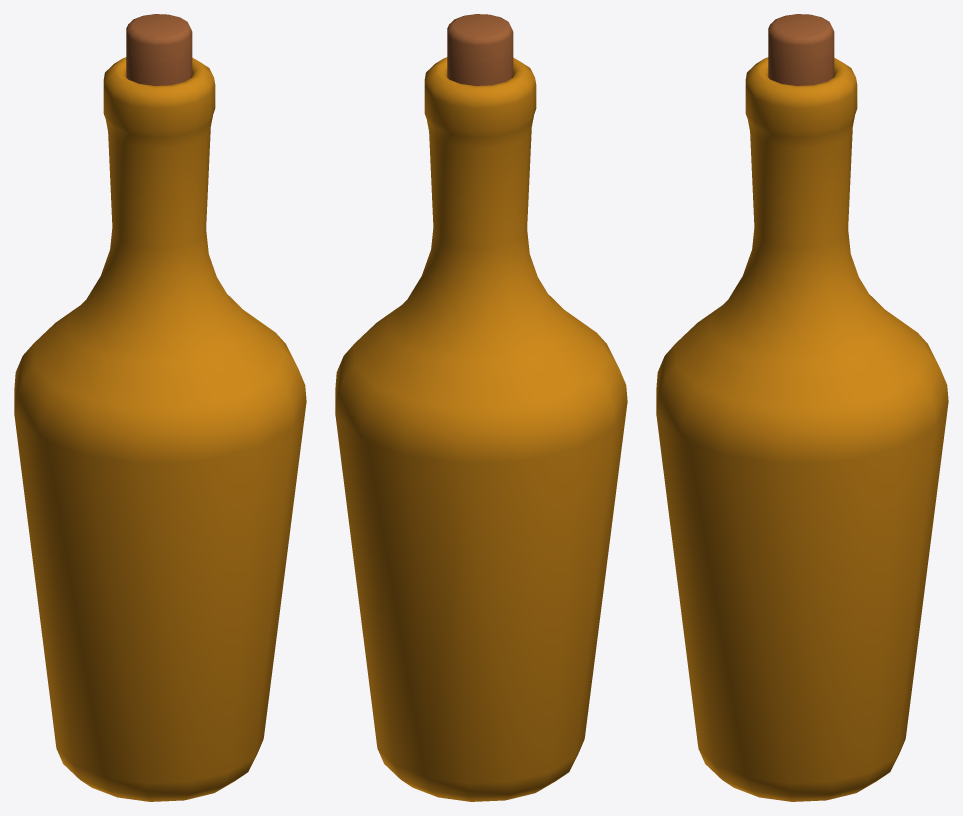
File: YellowBottle.glb
The picture shows the model from 3 angles, left to right: view 1: azimuth 30°, elevation 25°; view 2: azimuth 150°, elevation 25°; view 3: azimuth 270°, elevation 25°; orthographic projection.
Parts seen in each view (by area): view 1: YellowBottle; view 2: YellowBottle; view 3: YellowBottle.
Part boxes in pixels (<box>): YellowBottle: <box>14,14,306,801</box>; YellowBottle: <box>335,14,627,801</box>; YellowBottle: <box>656,14,948,801</box>.
Size of the model in its own units: 0.1484 by 0.4156 by 0.1475.
Materials: 1 (1 with a texture image).
